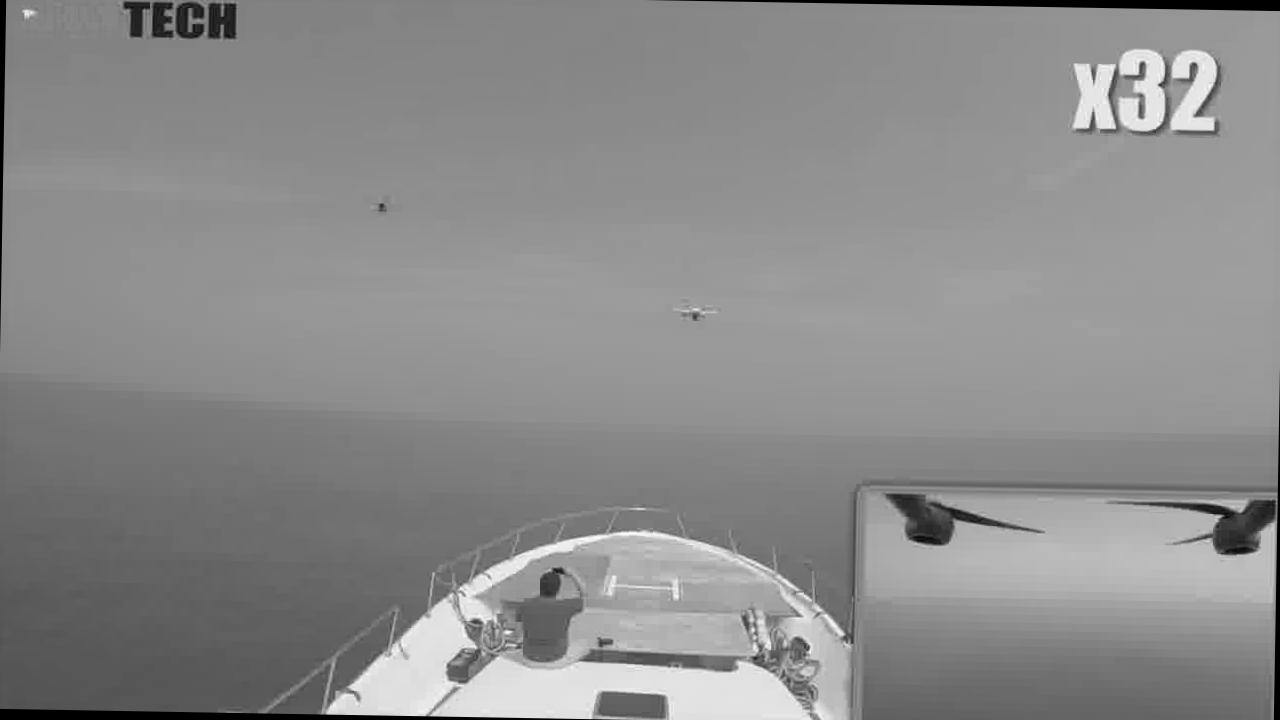drone: (660, 292, 716, 330), (354, 185, 394, 212)
